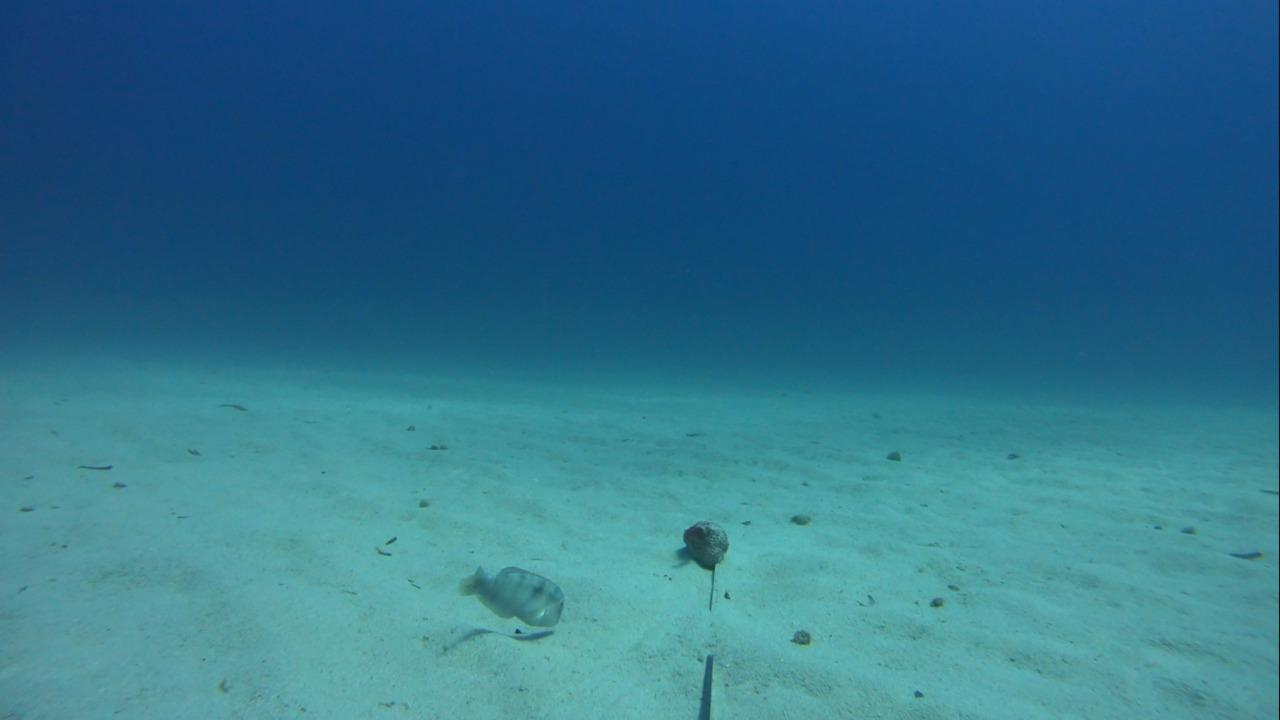raor: (451, 562, 567, 632)
